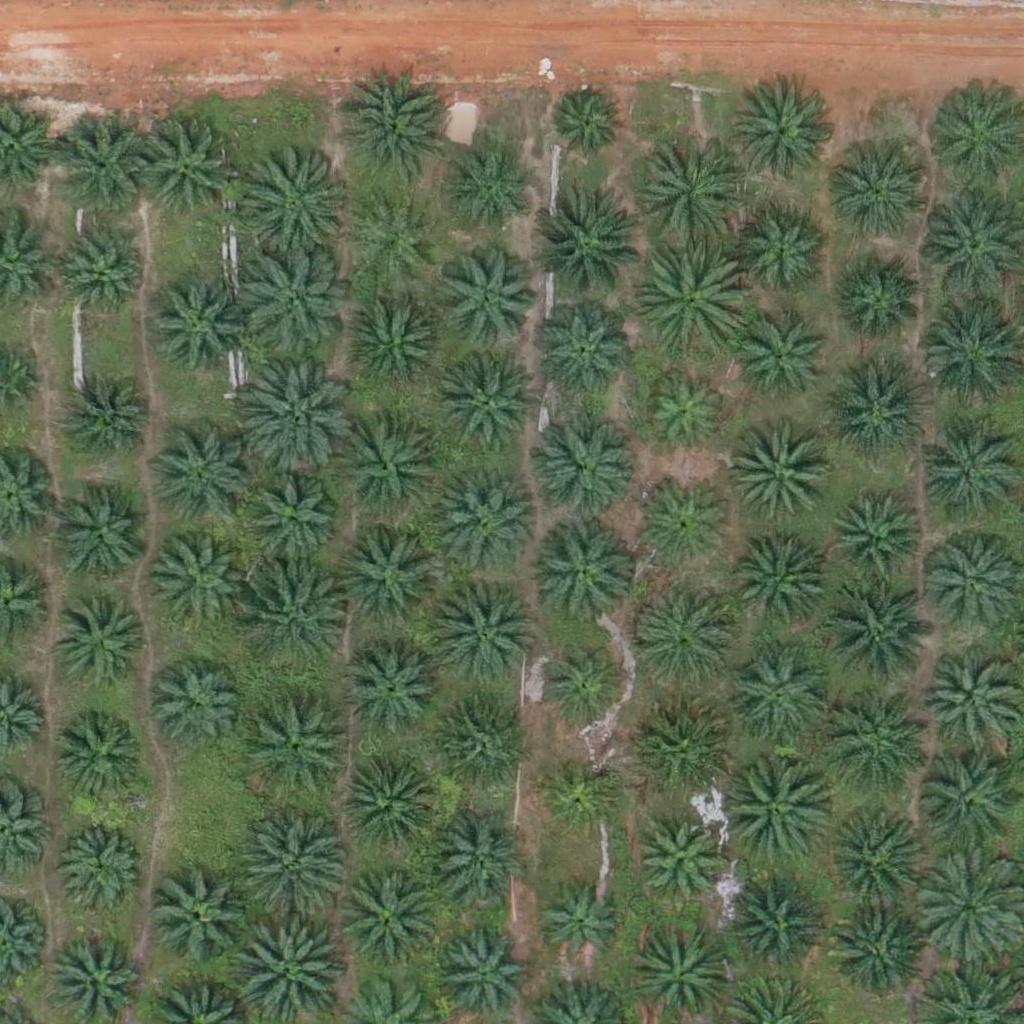Kelapa_Sawit: (240, 144, 353, 258), (237, 561, 350, 675), (241, 697, 354, 811), (530, 195, 643, 309), (236, 364, 349, 477), (234, 809, 347, 922), (334, 410, 447, 523), (338, 73, 451, 186), (640, 144, 753, 257), (712, 751, 825, 864), (640, 247, 752, 361), (242, 251, 354, 364), (334, 520, 446, 633), (432, 463, 544, 576), (428, 578, 540, 691), (632, 578, 744, 691), (821, 578, 933, 691), (49, 595, 149, 696), (149, 866, 249, 967), (144, 659, 244, 760), (147, 534, 247, 635), (155, 426, 255, 527), (149, 276, 249, 377), (136, 117, 236, 218), (240, 473, 340, 574), (345, 754, 445, 855), (345, 637, 445, 738), (343, 292, 443, 393), (434, 357, 534, 458), (429, 701, 529, 802), (434, 810, 534, 911), (532, 521, 632, 622), (644, 697, 744, 798), (732, 87, 832, 188), (727, 432, 827, 533), (726, 644, 826, 745), (717, 873, 817, 974), (820, 804, 920, 905), (830, 704, 930, 805), (826, 359, 926, 460), (830, 138, 930, 239), (921, 647, 1021, 748), (55, 119, 155, 219), (60, 372, 160, 472), (53, 488, 153, 588), (53, 709, 153, 809), (341, 868, 441, 968), (445, 250, 545, 350), (532, 298, 632, 398), (534, 419, 634, 519), (732, 530, 832, 630), (914, 754, 1014, 854), (821, 901, 921, 1001), (56, 819, 144, 907), (447, 147, 535, 235), (538, 749, 626, 837), (538, 636, 626, 724), (633, 817, 721, 905), (647, 369, 735, 457), (436, 934, 524, 1022), (64, 227, 151, 316), (351, 198, 438, 287), (533, 881, 620, 969), (642, 480, 729, 568), (736, 208, 823, 296), (740, 315, 827, 403), (831, 489, 918, 577), (834, 250, 921, 338), (550, 88, 625, 163)
